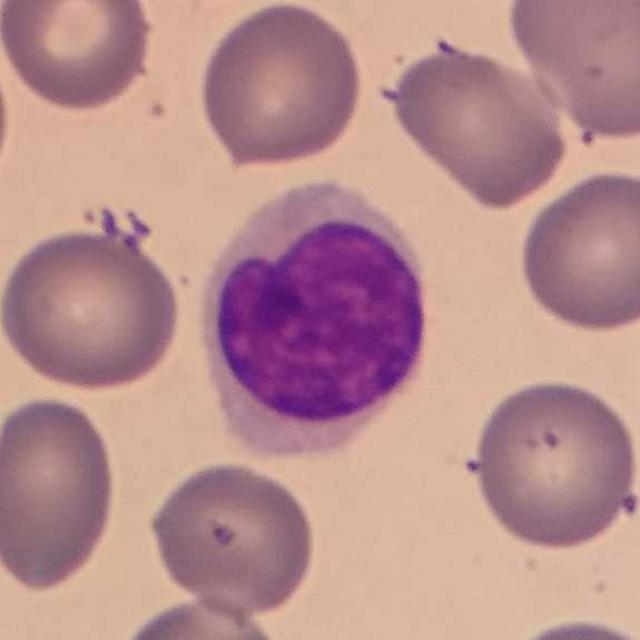Lymphocyte: (183, 186, 437, 468)
RBC: (378, 34, 574, 210), (0, 217, 186, 393), (465, 374, 640, 552), (193, 0, 368, 171), (144, 456, 322, 617), (0, 391, 122, 595), (513, 164, 640, 335), (505, 0, 639, 141), (0, 0, 159, 115), (110, 593, 287, 640), (492, 612, 639, 640)
